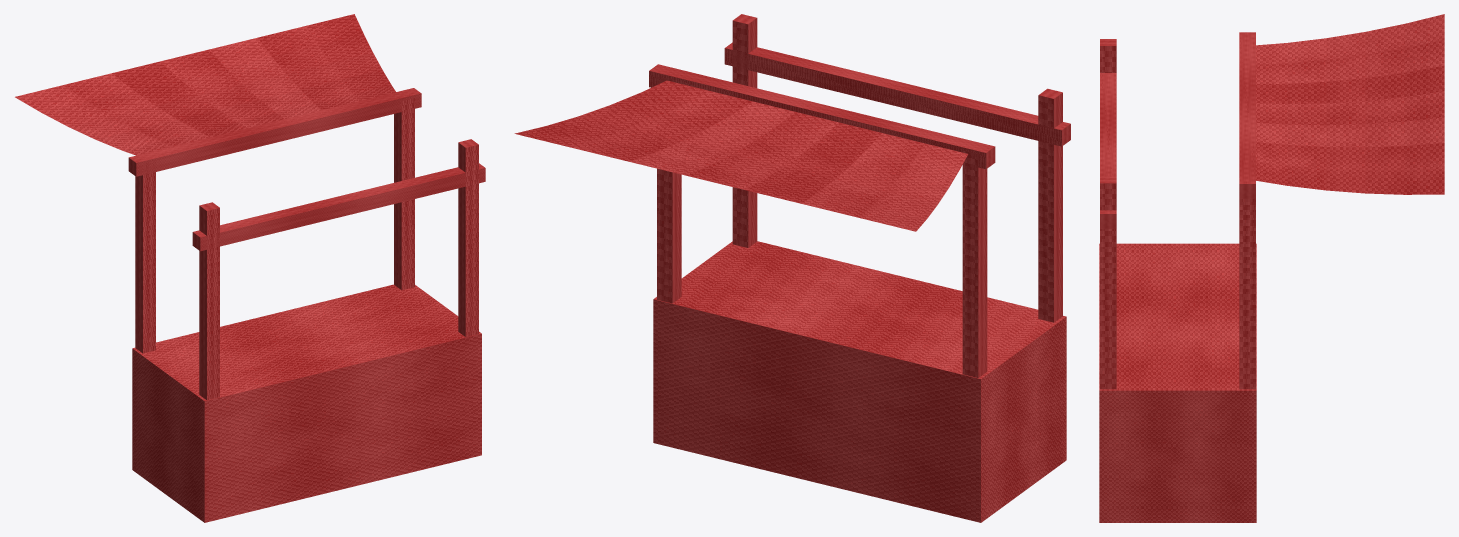
File: barraca_de_mercado.glb
The picture shows the model from 3 angles, left to right: view 1: azimuth 30°, elevation 25°; view 2: azimuth 150°, elevation 25°; view 3: azimuth 270°, elevation 25°; orthographic projection. The views are drawn at different scales.
Parts seen in each view (by area): view 1: StallFrame, Cloth_Awning; view 2: StallFrame, Cloth_Awning; view 3: StallFrame, Cloth_Awning.
Part boxes in pixels (x1,y1,x2,y2): StallFrame: (128, 88, 485, 522); Cloth_Awning: (15, 14, 395, 155); StallFrame: (649, 14, 1070, 522); Cloth_Awning: (514, 80, 967, 231); StallFrame: (1099, 32, 1256, 522); Cloth_Awning: (1256, 14, 1444, 194).
Bounding box in the file's own units: 2.58 × 2.3 × 2.08.
2 materials, 2 textured.
